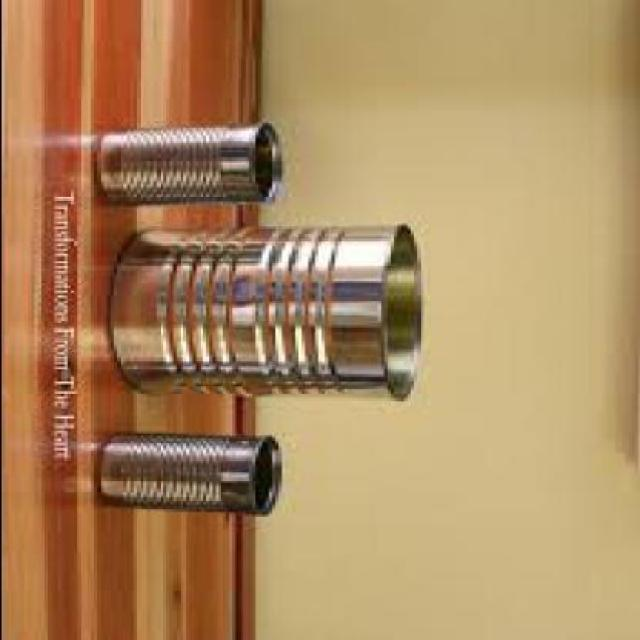METAL: (108, 222, 426, 398), (96, 118, 284, 204), (99, 431, 284, 512)
